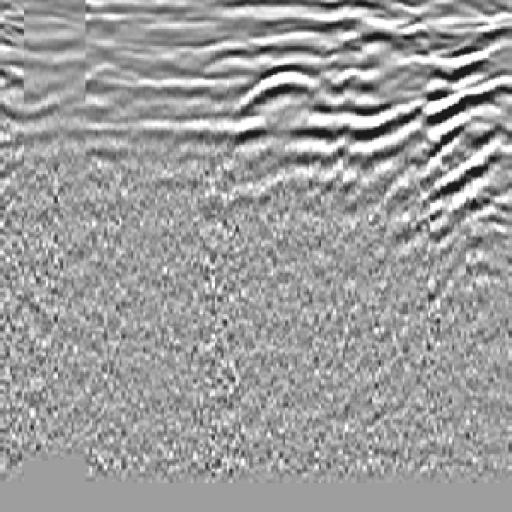metalic: (221, 43, 359, 120)
non-metallic: (381, 20, 512, 251)
